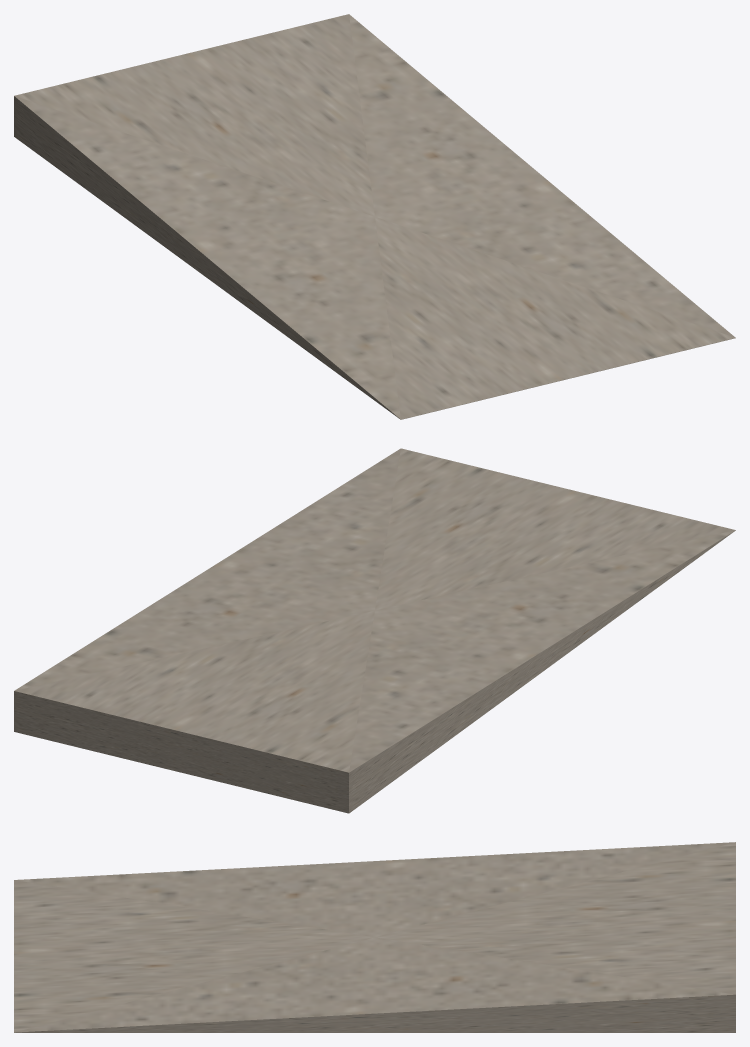
File: showcase_curb_ramp.glb
The picture shows the model from 3 angles, top to bottom: view 1: azimuth 30°, elevation 25°; view 2: azimuth 150°, elevation 25°; view 3: azimuth 270°, elevation 25°; orthographic projection. The views are drawn at different scales.
Visible parts, largest first — view 1: outdoor_showcase_curb_ramp; view 2: outdoor_showcase_curb_ramp; view 3: outdoor_showcase_curb_ramp.
Part boxes in pixels (x1=…): outdoor_showcase_curb_ramp: x1=14, y1=14, x2=735, y2=419; outdoor_showcase_curb_ramp: x1=14, y1=448, x2=735, y2=813; outdoor_showcase_curb_ramp: x1=14, y1=842, x2=735, y2=1032.
Size of the model in its own units: 1.2 by 0.14 by 2.4.
Materials: 1 (1 with a texture image).
